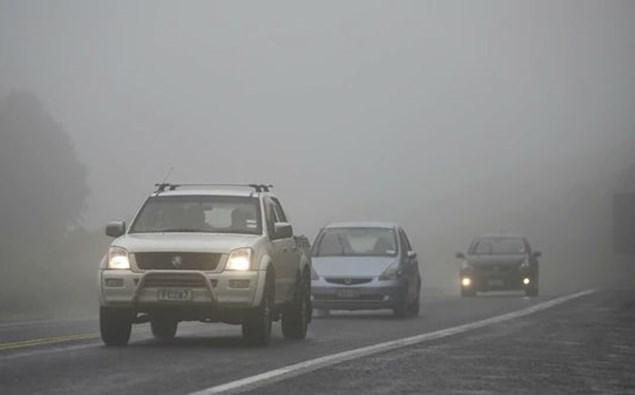car: (96, 178, 314, 346), (297, 220, 422, 319), (453, 231, 543, 298)
